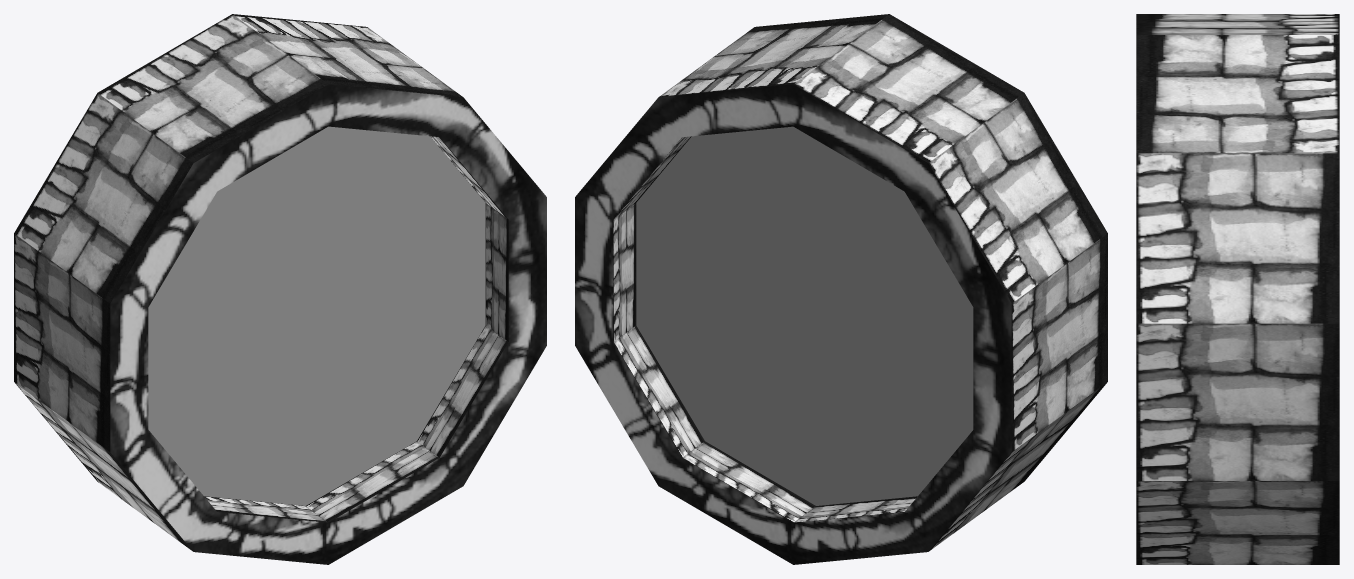
Rendered from ChurchWindowRound.fbx.
3 renders of one model, left to right at view 1: azimuth 30°, elevation 25°; view 2: azimuth 150°, elevation 25°; view 3: azimuth 270°, elevation 25°, orthographic. The views are drawn at different scales.
Visible parts, largest first — view 1: ChurchWindowRound; view 2: ChurchWindowRound; view 3: ChurchWindowRound.
Part boxes in pixels (box(x1,y1,x2,y2)): ChurchWindowRound: box(14, 14, 546, 564); ChurchWindowRound: box(575, 14, 1107, 564); ChurchWindowRound: box(1136, 14, 1339, 564).
Bounding box in the file's own units: 3.3 × 3.47 × 1.26.
